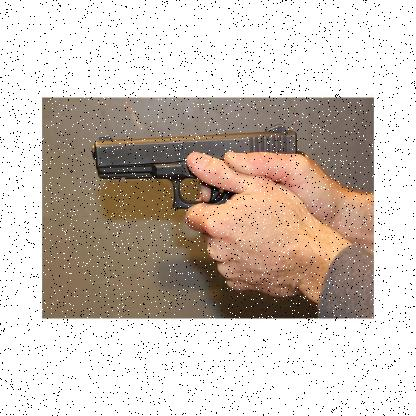gun: (88, 122, 300, 286)
